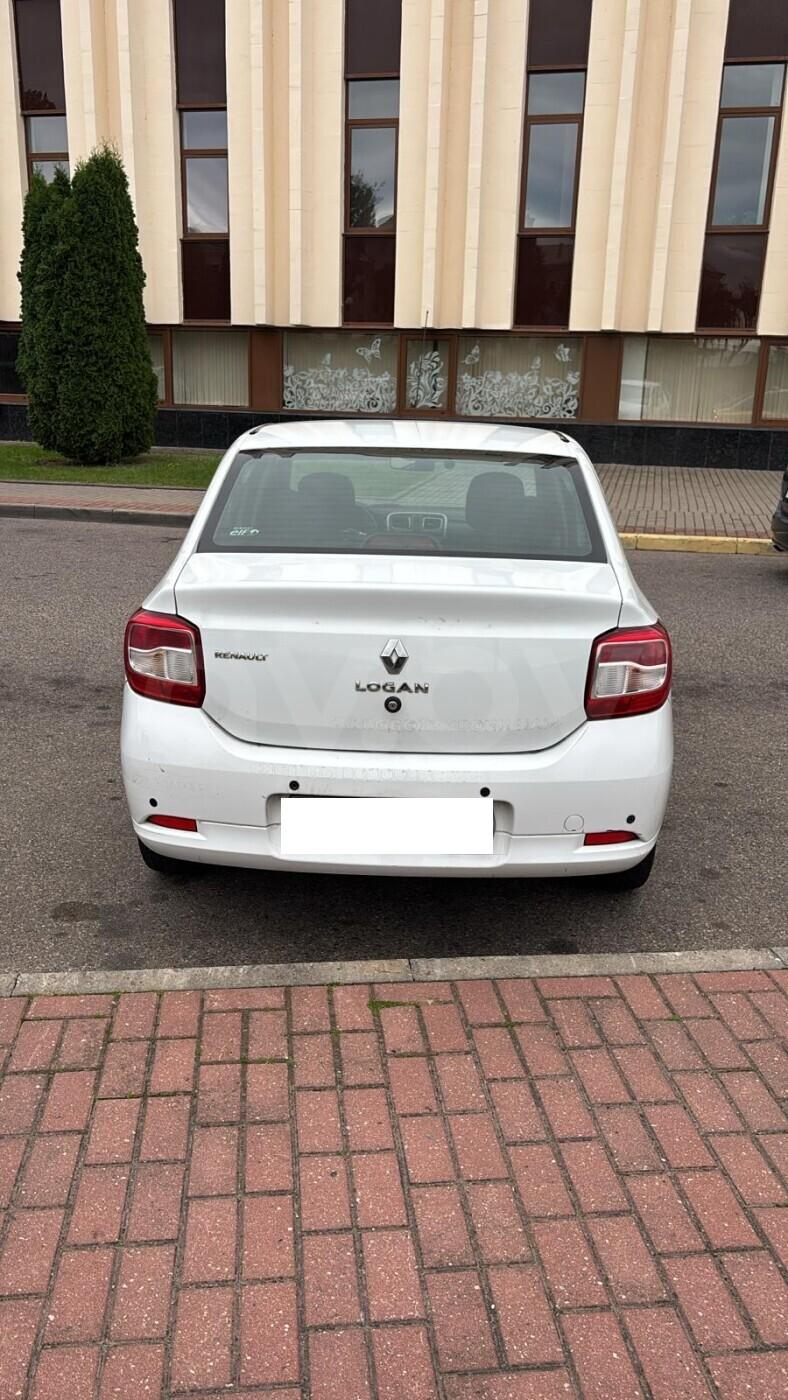Logan_2018: (114, 406, 690, 924)
